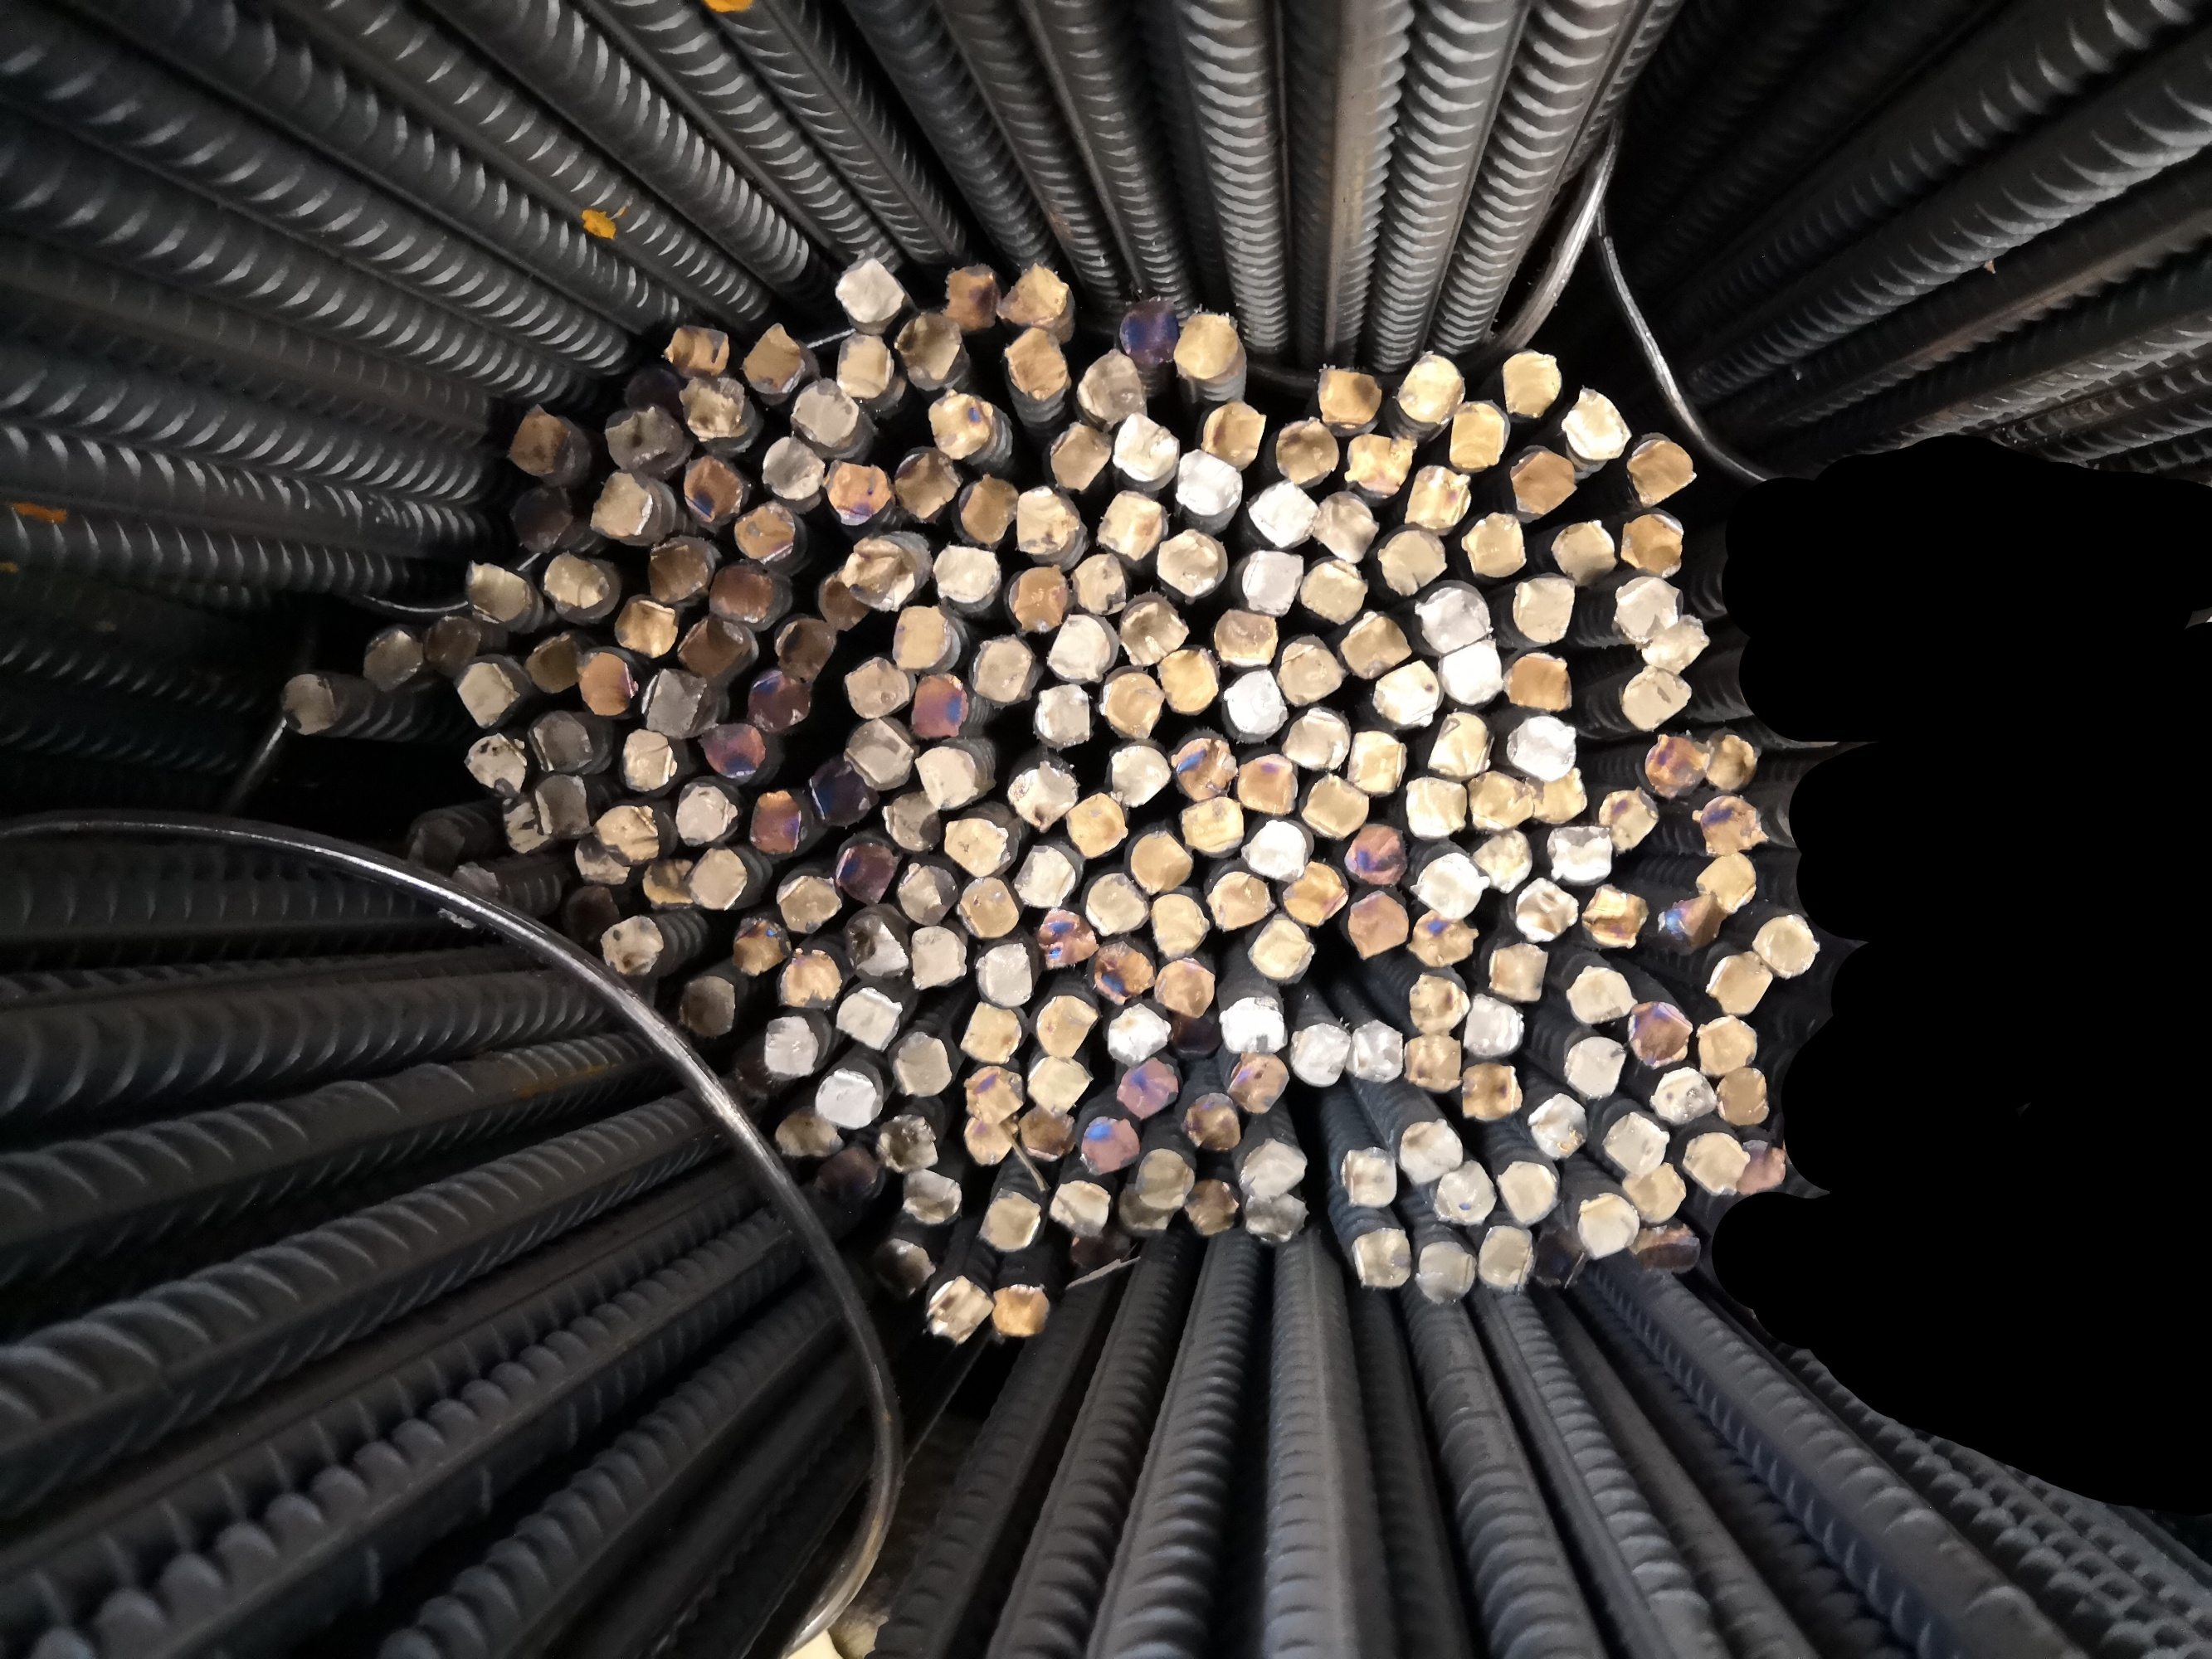rebar: (1562, 387, 1635, 462), (1006, 758, 1079, 829), (844, 538, 915, 610), (1077, 347, 1147, 420), (896, 312, 962, 389), (1415, 587, 1490, 653), (1412, 856, 1490, 917), (1508, 448, 1578, 516), (1394, 354, 1462, 423), (844, 720, 912, 788), (1098, 673, 1166, 741), (638, 669, 708, 735), (506, 406, 570, 477), (807, 763, 879, 828), (1621, 666, 1693, 730), (1344, 432, 1417, 495), (1173, 450, 1239, 518), (1396, 1117, 1464, 1183), (1438, 640, 1506, 706), (791, 382, 861, 446), (927, 389, 992, 458), (1004, 328, 1069, 397), (1248, 481, 1318, 545), (1511, 575, 1576, 645), (1461, 511, 1525, 580), (831, 260, 903, 322), (896, 450, 959, 521), (1339, 617, 1412, 678), (1372, 660, 1438, 727), (1583, 884, 1649, 950), (1628, 439, 1694, 505), (1602, 1110, 1670, 1175), (1513, 878, 1581, 943), (821, 460, 891, 523), (847, 913, 910, 983), (1121, 599, 1191, 662), (1377, 530, 1447, 592), (971, 633, 1032, 704), (743, 324, 802, 397), (1098, 491, 1163, 558), (929, 1277, 994, 1344), (1347, 892, 1412, 958), (1114, 415, 1177, 483), (1314, 495, 1377, 563), (1300, 561, 1368, 624), (1508, 714, 1576, 777), (1550, 519, 1618, 582), (1565, 965, 1637, 1025), (913, 744, 978, 809), (1128, 828, 1192, 892), (1628, 1002, 1693, 1066), (465, 559, 528, 626), (591, 471, 654, 537), (760, 436, 823, 502), (1014, 486, 1077, 552), (1156, 650, 1218, 716), (1014, 843, 1077, 910), (1175, 312, 1238, 378), (1614, 577, 1680, 640), (1403, 464, 1469, 526), (842, 657, 910, 718), (1001, 263, 1069, 324), (589, 805, 659, 864), (603, 410, 675, 467), (464, 734, 526, 798), (837, 986, 901, 1049), (896, 864, 960, 927), (1049, 423, 1112, 488), (1067, 791, 1130, 856), (1086, 871, 1150, 934), (1107, 1004, 1171, 1066), (1173, 735, 1236, 800), (1241, 549, 1304, 613), (1706, 951, 1771, 1014), (933, 542, 999, 603), (1157, 530, 1218, 596), (1288, 1023, 1349, 1089), (1429, 709, 1490, 775), (1278, 416, 1337, 484), (1236, 1140, 1306, 1197), (1408, 910, 1480, 965), (779, 950, 842, 1012), (962, 1002, 1025, 1065), (1224, 671, 1286, 734), (1201, 401, 1264, 464), (1487, 941, 1550, 1004), (359, 631, 424, 692), (614, 596, 678, 657), (955, 877, 1020, 938), (1107, 744, 1171, 805), (1091, 941, 1156, 1002), (1283, 709, 1347, 770), (1684, 1133, 1748, 1194), (1752, 917, 1816, 978), (511, 486, 570, 552), (683, 457, 743, 523), (959, 474, 1018, 540), (1008, 563, 1067, 629), (1694, 796, 1769, 849), (1206, 873, 1276, 929), (1503, 653, 1572, 709), (457, 664, 518, 727), (833, 842, 896, 903), (1035, 995, 1098, 1056), (980, 1187, 1041, 1249), (1578, 1194, 1639, 1256), (1497, 1162, 1560, 1223), (1462, 993, 1523, 1056), (1471, 829, 1532, 892), (1645, 734, 1708, 795), (680, 380, 744, 439), (1150, 894, 1210, 958), (1116, 1058, 1180, 1117), (1243, 821, 1307, 880), (1304, 777, 1368, 836), (1435, 1162, 1494, 1227), (1529, 1094, 1588, 1159), (1694, 1014, 1759, 1073), (1548, 824, 1612, 884), (708, 565, 774, 622), (1213, 608, 1279, 666), (1476, 1227, 1534, 1293), (676, 620, 746, 674), (1049, 1178, 1110, 1239), (1283, 864, 1344, 925), (1564, 1037, 1625, 1098), (1049, 617, 1109, 680), (1279, 645, 1342, 704), (1410, 972, 1469, 1035), (1600, 788, 1659, 850), (1469, 772, 1532, 831), (544, 552, 608, 610), (960, 1066, 1025, 1124), (910, 674, 967, 739), (1117, 298, 1175, 362), (1417, 1241, 1475, 1305), (1523, 767, 1588, 824), (762, 1014, 818, 1080), (697, 725, 763, 781), (1503, 349, 1558, 415), (1250, 918, 1311, 978), (1351, 1229, 1412, 1288), (1625, 1164, 1684, 1225), (1694, 852, 1755, 911), (1217, 1002, 1288, 1053), (525, 634, 582, 697), (575, 653, 633, 716), (650, 538, 708, 601), (835, 335, 892, 397), (772, 620, 835, 678), (816, 1072, 879, 1129), (892, 1033, 950, 1096), (974, 943, 1032, 1006), (945, 819, 1008, 877), (891, 605, 948, 667), (1072, 552, 1130, 615), (1037, 910, 1100, 967), (1154, 960, 1217, 1018), (1405, 777, 1468, 835), (1621, 518, 1684, 575), (441, 866, 497, 931), (748, 674, 812, 730), (1347, 730, 1403, 795), (1661, 894, 1726, 950), (1644, 617, 1710, 671), (1450, 401, 1504, 467), (279, 674, 338, 734), (533, 713, 593, 772), (882, 791, 941, 850), (1135, 1148, 1194, 1208), (1229, 1054, 1288, 1114), (676, 782, 734, 843), (910, 927, 967, 988), (1238, 755, 1299, 812), (1401, 1035, 1462, 1093), (600, 917, 662, 972), (1028, 1058, 1091, 1114), (1320, 368, 1382, 423), (1340, 1147, 1396, 1209), (1459, 1063, 1522, 1119), (772, 1108, 844, 1157), (776, 877, 840, 931), (870, 1239, 934, 1293), (1178, 798, 1243, 852), (1347, 1019, 1401, 1084), (947, 265, 999, 331), (873, 1117, 940, 1169), (425, 617, 483, 676), (736, 502, 795, 559), (1034, 685, 1091, 744), (1346, 824, 1405, 882), (689, 850, 744, 911), (622, 730, 676, 793), (901, 1169, 964, 1223), (1243, 1194, 1307, 1246), (1652, 1068, 1717, 1121), (1708, 725, 1759, 791), (1081, 1117, 1140, 1173), (535, 777, 589, 838), (680, 978, 734, 1037), (992, 1283, 1051, 1337), (730, 918, 784, 976), (666, 328, 730, 375), (567, 889, 622, 943), (751, 793, 802, 852), (406, 821, 462, 873), (1185, 1178, 1238, 1234), (1717, 1070, 1769, 1126), (819, 573, 868, 633), (570, 838, 631, 885), (1020, 1108, 1074, 1161), (1536, 1230, 1586, 1286), (1738, 1140, 1787, 1197), (966, 1117, 1020, 1168), (826, 1147, 879, 1197), (640, 861, 695, 908), (1117, 1183, 1168, 1234), (1635, 1234, 1700, 1272), (502, 800, 549, 852), (1185, 1105, 1239, 1148), (1070, 1234, 1133, 1270), (1171, 1014, 1225, 1056), (622, 369, 678, 408)
